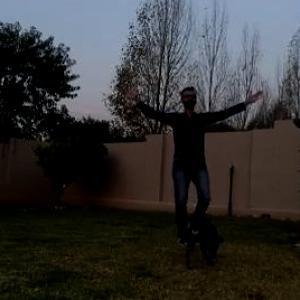takeoff: (139, 65, 299, 264)
